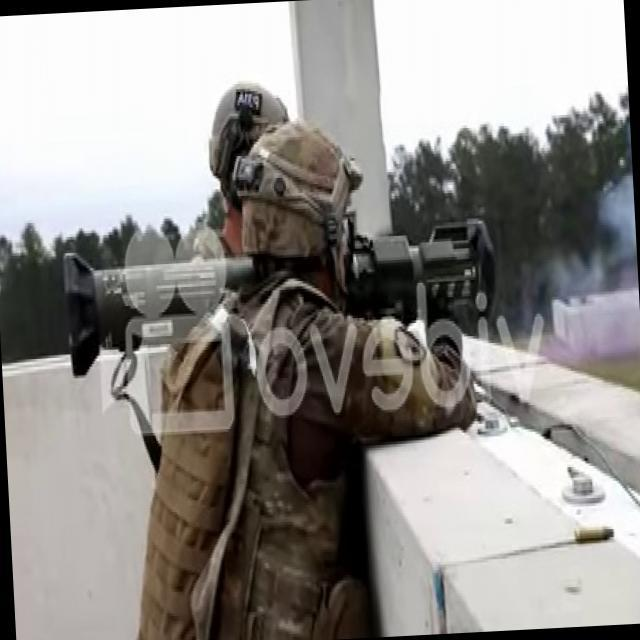rocket: (61, 208, 497, 390)
